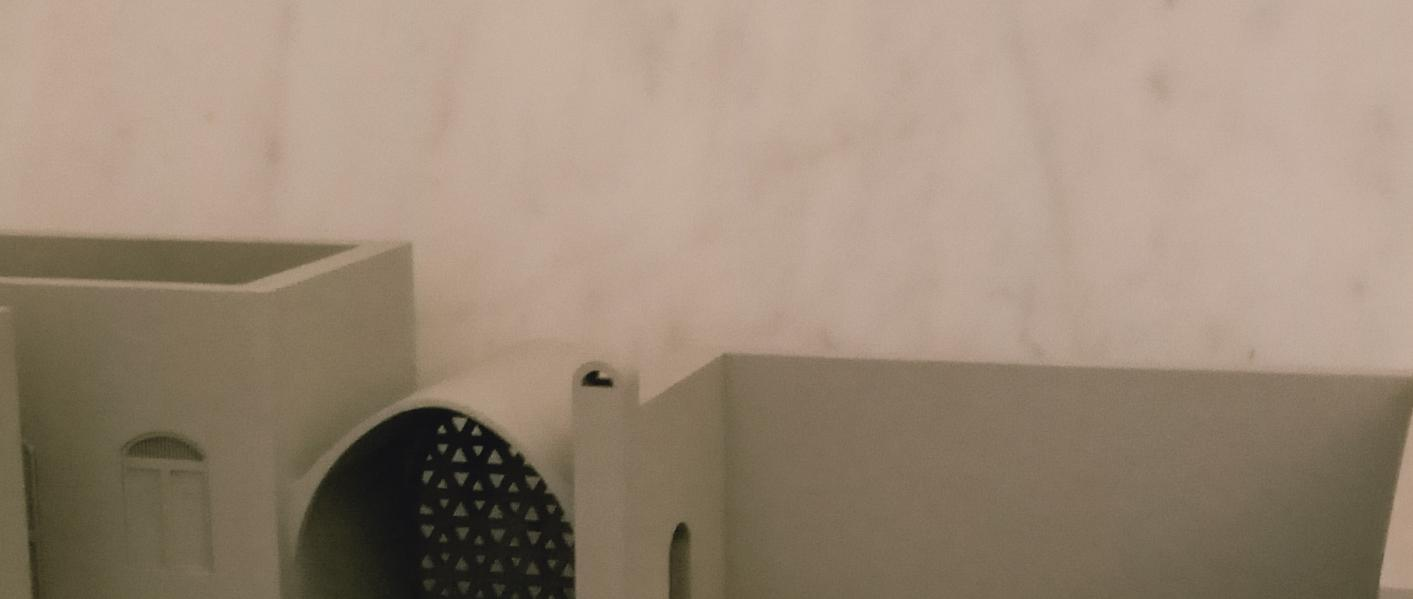HassanFathi: (0, 225, 1413, 599)
